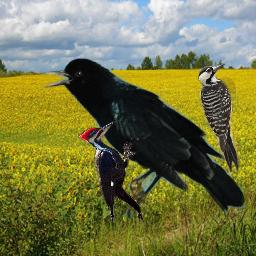Crow: (43, 58, 245, 219)
Woodpecker: (78, 121, 144, 223), (198, 63, 240, 173)
